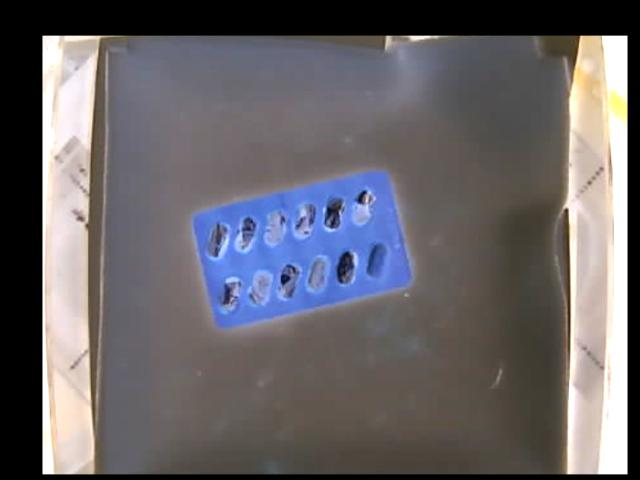Medicine: (193, 169, 411, 326)
